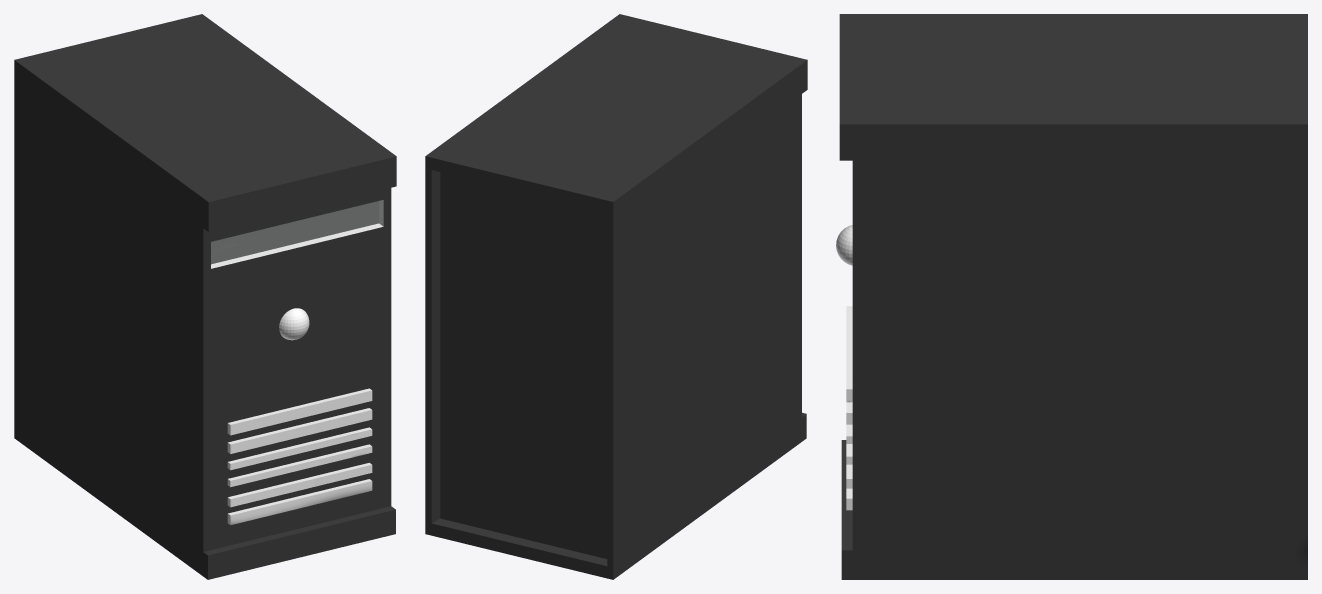
Rendered from Cpu_prefab.fbx.
3 renders of one model, left to right at view 1: azimuth 30°, elevation 25°; view 2: azimuth 150°, elevation 25°; view 3: azimuth 270°, elevation 25°, orthographic. The views are drawn at different scales.
Parts seen in each view (by area): view 1: Cube.003; view 2: Cube.003; view 3: Cube.003.
Part boxes in pixels (x1=…): Cube.003: x1=14, y1=14, x2=396, y2=579; Cube.003: x1=425, y1=14, x2=807, y2=579; Cube.003: x1=836, y1=14, x2=1307, y2=579.
Bounding box in the file's own units: 95.47 × 184 × 172.
1 material, 1 textured.
